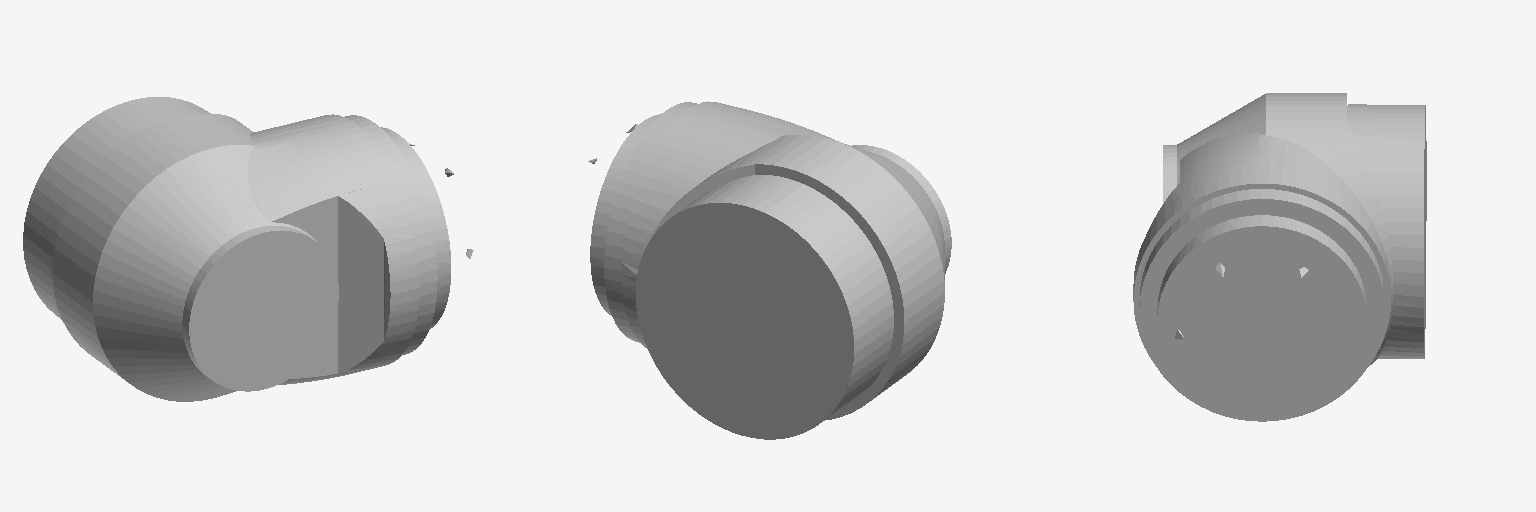
The picture shows the model from 3 angles: view 1: azimuth 30°, elevation 25°; view 2: azimuth 150°, elevation 25°; view 3: azimuth 270°, elevation 25°; orthographic projection.
Visible parts, largest first — view 1: kr60_6_kr60_3; view 2: kr60_6_kr60_3; view 3: kr60_6_kr60_3.
Part boxes in pixels (left/top/right/bottom): kr60_6_kr60_3: left=23, top=97, right=473, bottom=401; kr60_6_kr60_3: left=588, top=101, right=951, bottom=439; kr60_6_kr60_3: left=1133, top=93, right=1426, bottom=421.
Size of the model in its own units: 0.276 by 0.1943 by 0.2061.